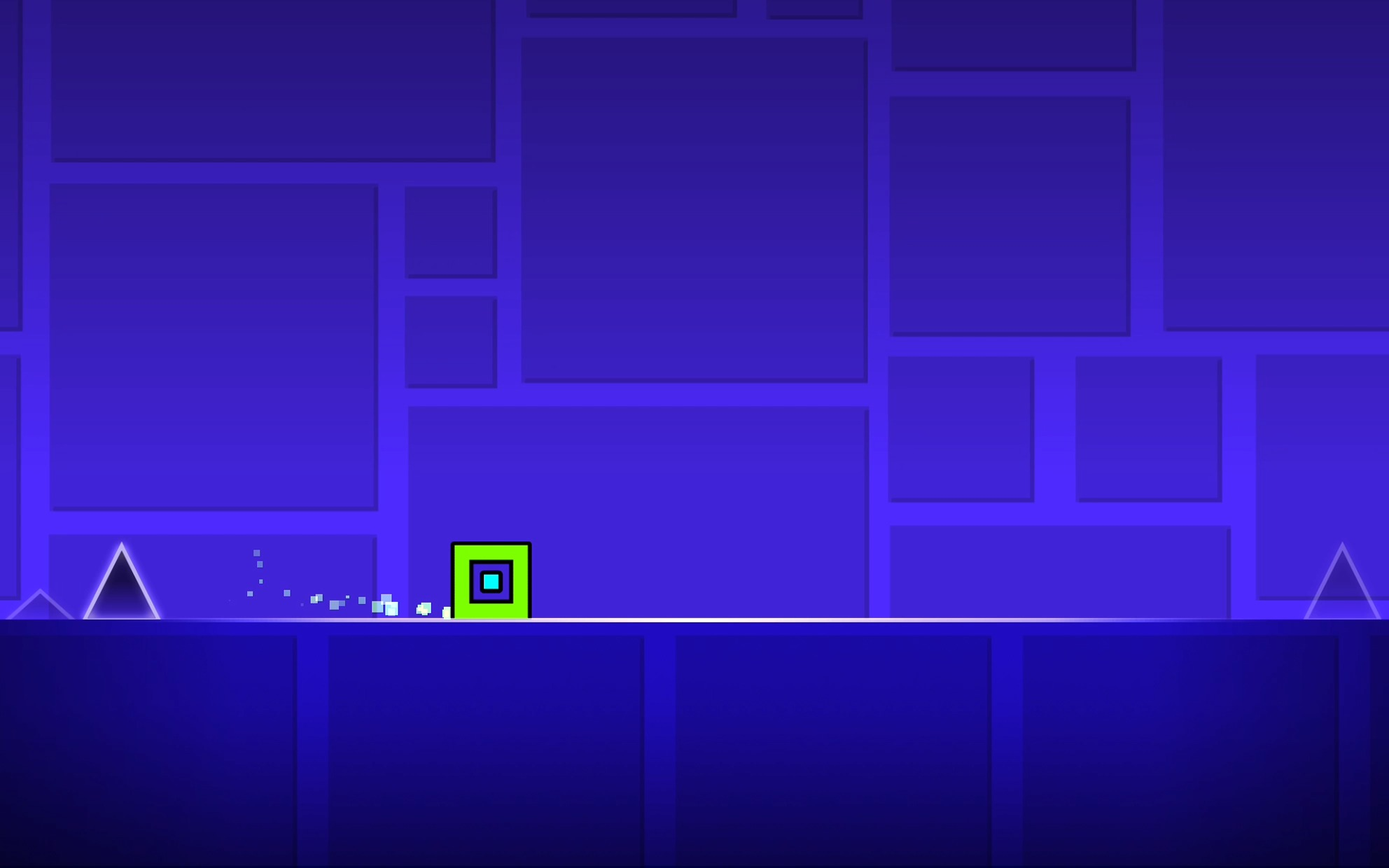Player: (445, 542, 533, 619)
Spike: (83, 543, 160, 619), (1304, 544, 1381, 619)
Spike2: (7, 589, 71, 620)
